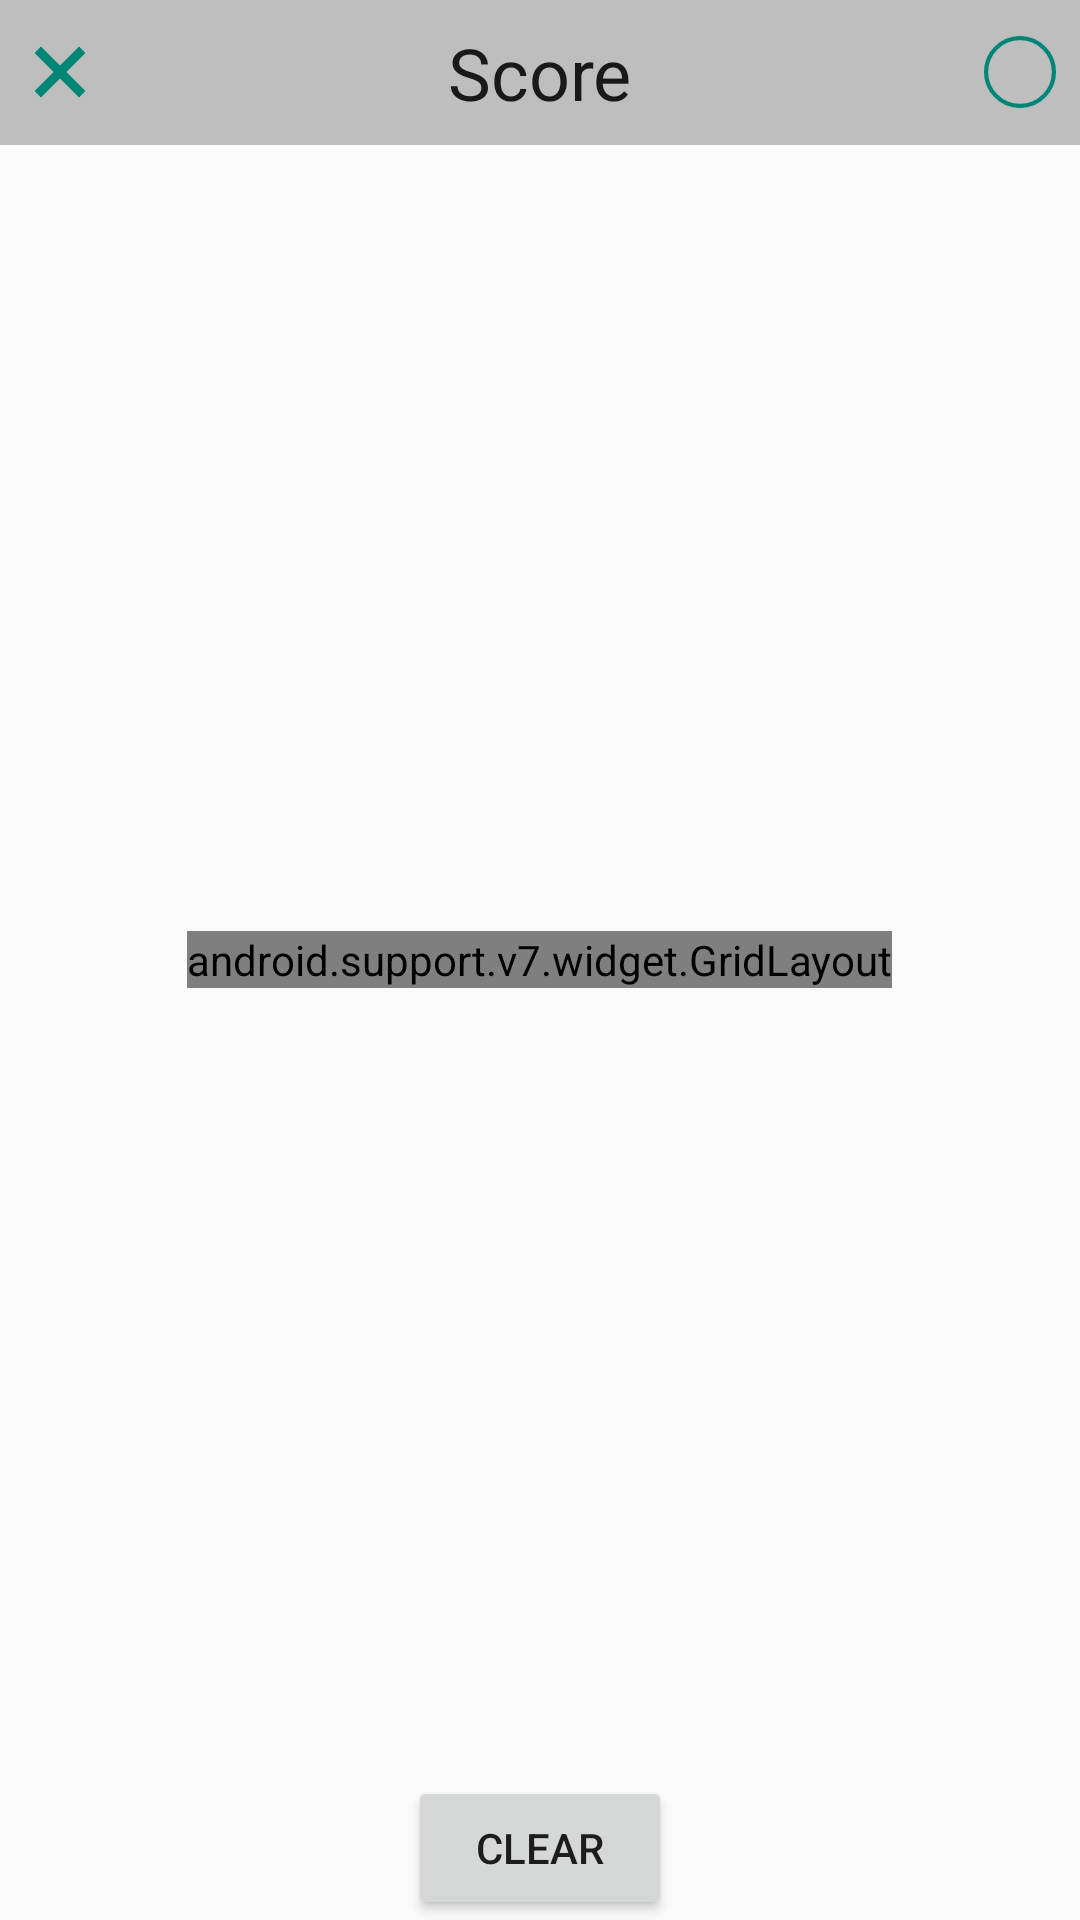

Named icons in this screenshot (1080×1920) and their centers, point (x, y):
circle: point (1020, 72)
cross: point (60, 72)
